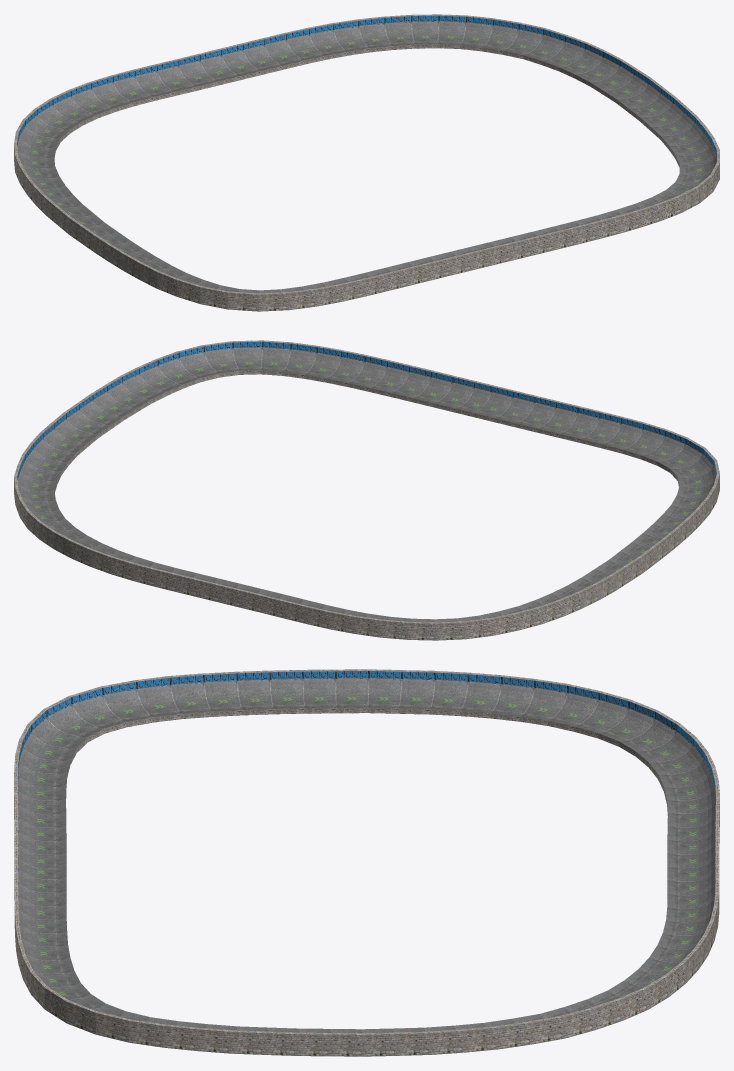
The model's file is race_track3.glb.
3 renders of one model, top to bottom at view 1: azimuth 30°, elevation 25°; view 2: azimuth 150°, elevation 25°; view 3: azimuth 270°, elevation 25°, orthographic. The views are drawn at different scales.
Parts seen in each view (by area): view 1: RaceTrack3-col; view 2: RaceTrack3-col; view 3: RaceTrack3-col.
Part boxes in pixels (x1,y1,x2,y2): RaceTrack3-col: (14,14,719,311); RaceTrack3-col: (14,340,719,640); RaceTrack3-col: (14,669,719,1056).
Bounding box in the file's own units: 216 × 6 × 176.
1 material, 1 textured.
